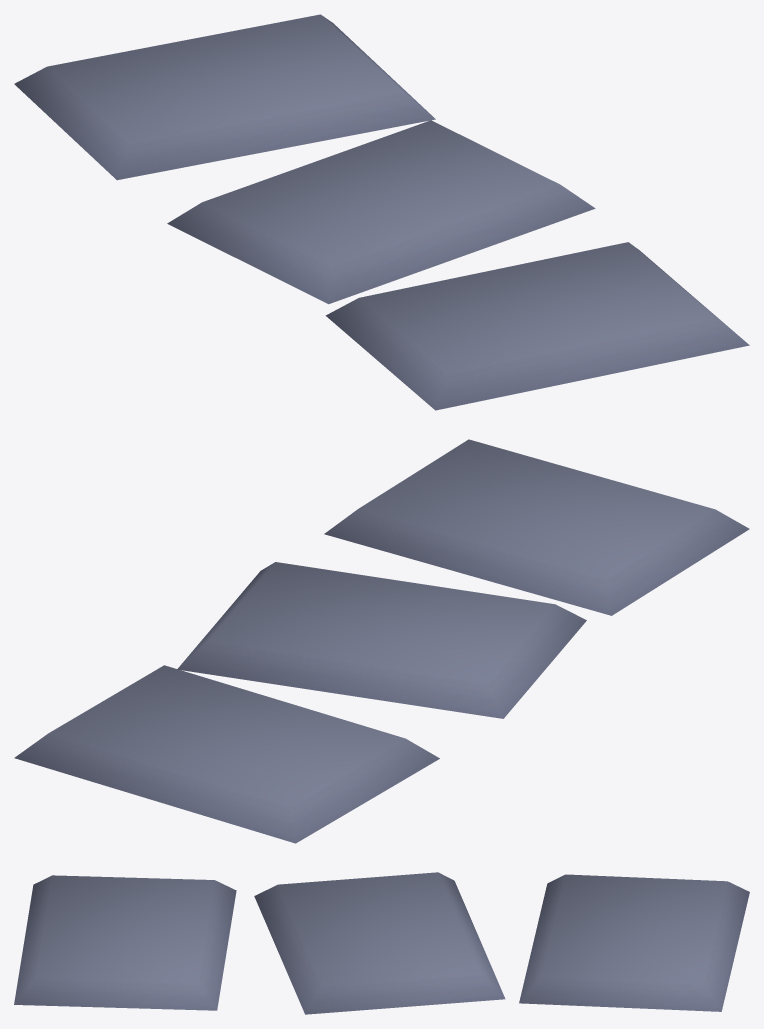
Rendered from path-stones-messy.draco.glb.
The picture shows the model from 3 angles, top to bottom: view 1: azimuth 30°, elevation 25°; view 2: azimuth 150°, elevation 25°; view 3: azimuth 270°, elevation 25°; orthographic projection. The views are drawn at different scales.
Visible parts, largest first — view 1: path-stones-messy; view 2: path-stones-messy; view 3: path-stones-messy.
Boxes of the visible parts, x1=… form: path-stones-messy: x1=14, y1=14, x2=749, y2=410; path-stones-messy: x1=14, y1=439, x2=749, y2=843; path-stones-messy: x1=14, y1=872, x2=749, y2=1014.
Size of the model in its own units: 0.1556 by 0.00999 by 0.3614.
1 material, 1 textured.
